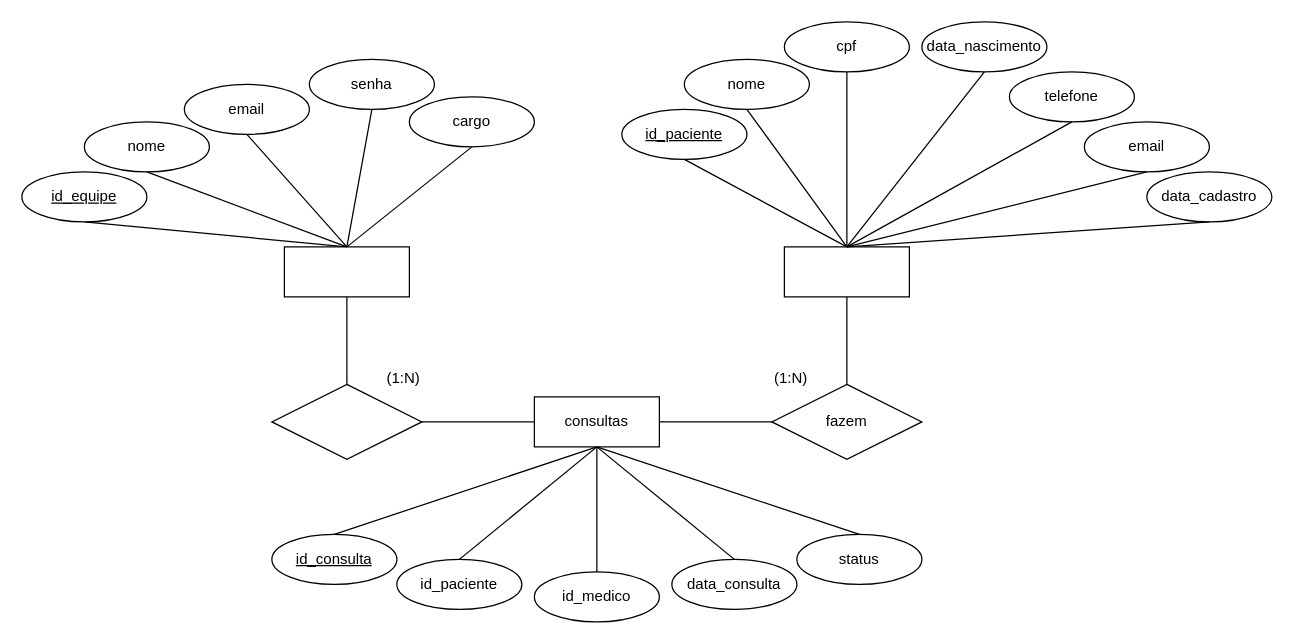
The diagram is 1294 pixels wide and 644 high, and some of its shapes have lost their labels. Here are the shapes that lost their labels. From the top down, the centre of each, then its label:
At (x=346, y=271): "equipe".
At (x=846, y=271): "pacientes".
At (x=346, y=421): "possuem".
